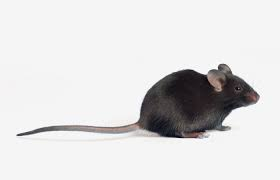mice: (13, 63, 265, 138)
